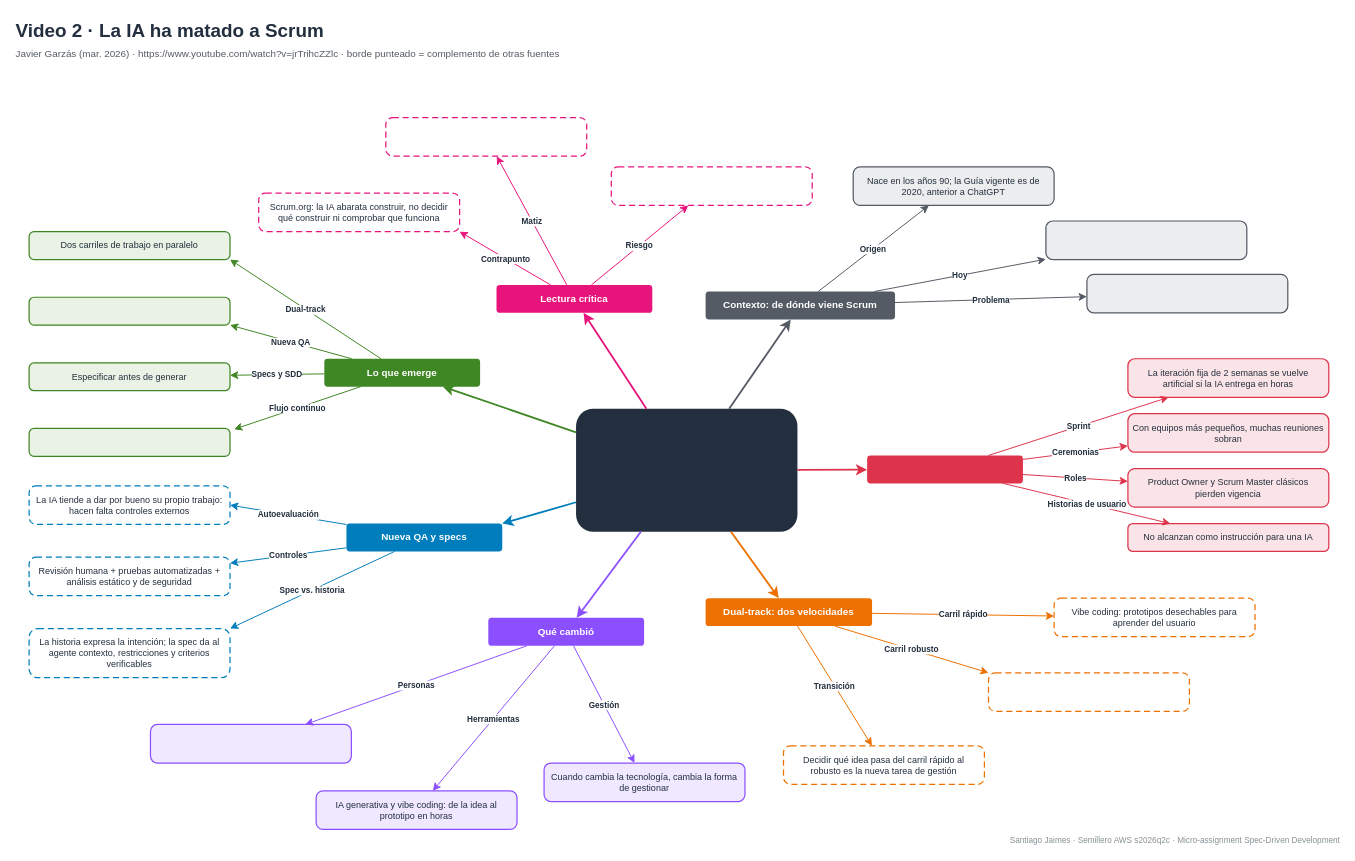
Some shapes in this 1355 by 861 pixel diagram are drawn without their labels. Each missing label, with the centre of its shape:
"Choques con Scrum" goes at point (945, 469).
"Controlar y verificar lo que hace la IA" goes at point (129, 310).
"En lugar de iteraciones de tamaño fijo" goes at point (129, 442).
"Gestionar trabajo con IA usando modelos del pasado no encaja" goes at point (1187, 293).
"LA IA HA MATADO A SCRUM (Y LO QUE VIENE)" goes at point (686, 469).
"Lo que muere es el Scrum de ceremonias; inspeccionar y adaptar sigue vigente" goes at point (486, 136).
"Muchos equipos lo están abandonando en silencio" goes at point (1146, 240).
"Personas potenciadas con IA: más capacidad por persona, equipos más pequeños" goes at point (250, 743).
"Specs rígidas y exhaustivas pueden devolver al equipo a la cascada" goes at point (711, 186).
"Vibe engineering: código de producción con specs, pruebas y revisión" goes at point (1089, 692).
